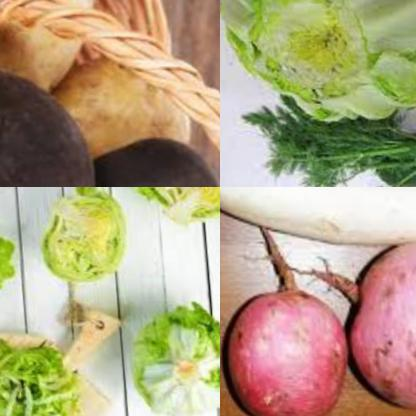cucumber: (369, 83, 416, 187)
potato: (0, 0, 194, 154)
redka: (220, 266, 354, 416), (328, 233, 416, 416), (220, 187, 416, 257), (0, 57, 101, 187), (76, 138, 220, 187)
salad: (220, 0, 416, 134), (120, 307, 220, 416), (26, 187, 131, 286), (0, 336, 84, 416), (129, 187, 220, 230), (0, 217, 21, 319)
